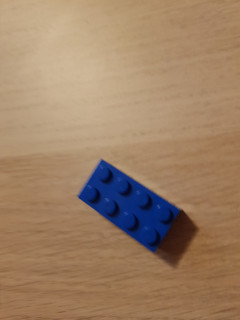2x4 blue: (76, 159, 182, 251)
